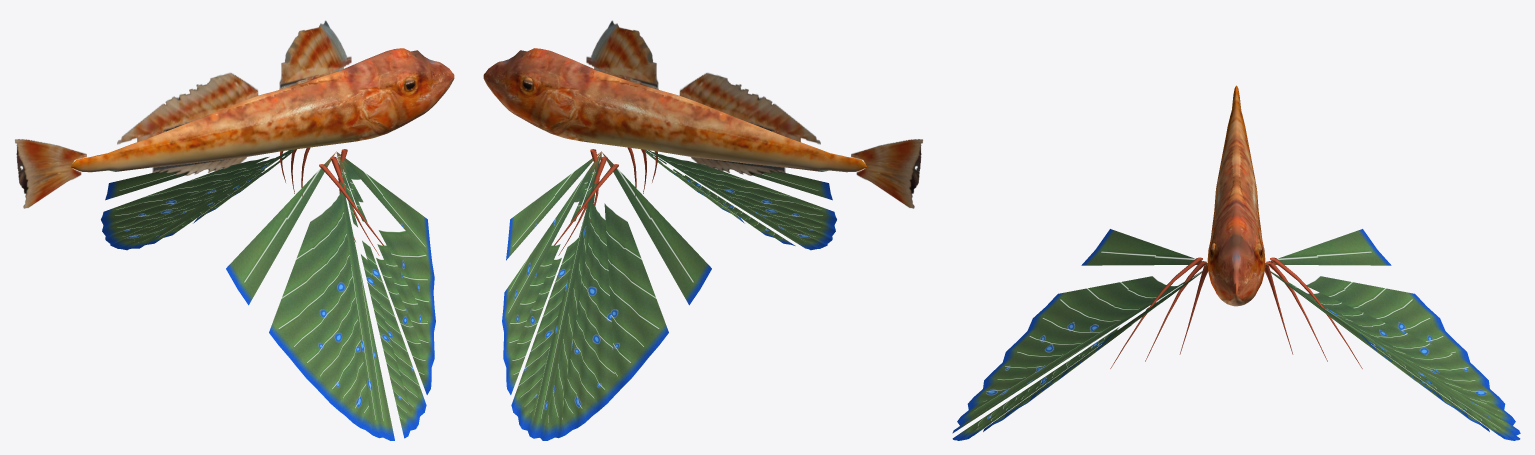
File: houbou_lo.glb
3 renders of one model, left to right at view 1: azimuth 30°, elevation 25°; view 2: azimuth 150°, elevation 25°; view 3: azimuth 270°, elevation 25°, orthographic. The views are drawn at different scales.
Visible parts, largest first — view 1: houbou; view 2: houbou; view 3: houbou.
Part boxes in pixels (x1=…): houbou: x1=15, y1=20, x2=454, y2=440; houbou: x1=483, y1=20, x2=922, y2=440; houbou: x1=952, y1=85, x2=1520, y2=440.
Size of the model in its own units: 0.3005 by 0.2019 by 0.3108.
Materials: 1 (1 with a texture image).
